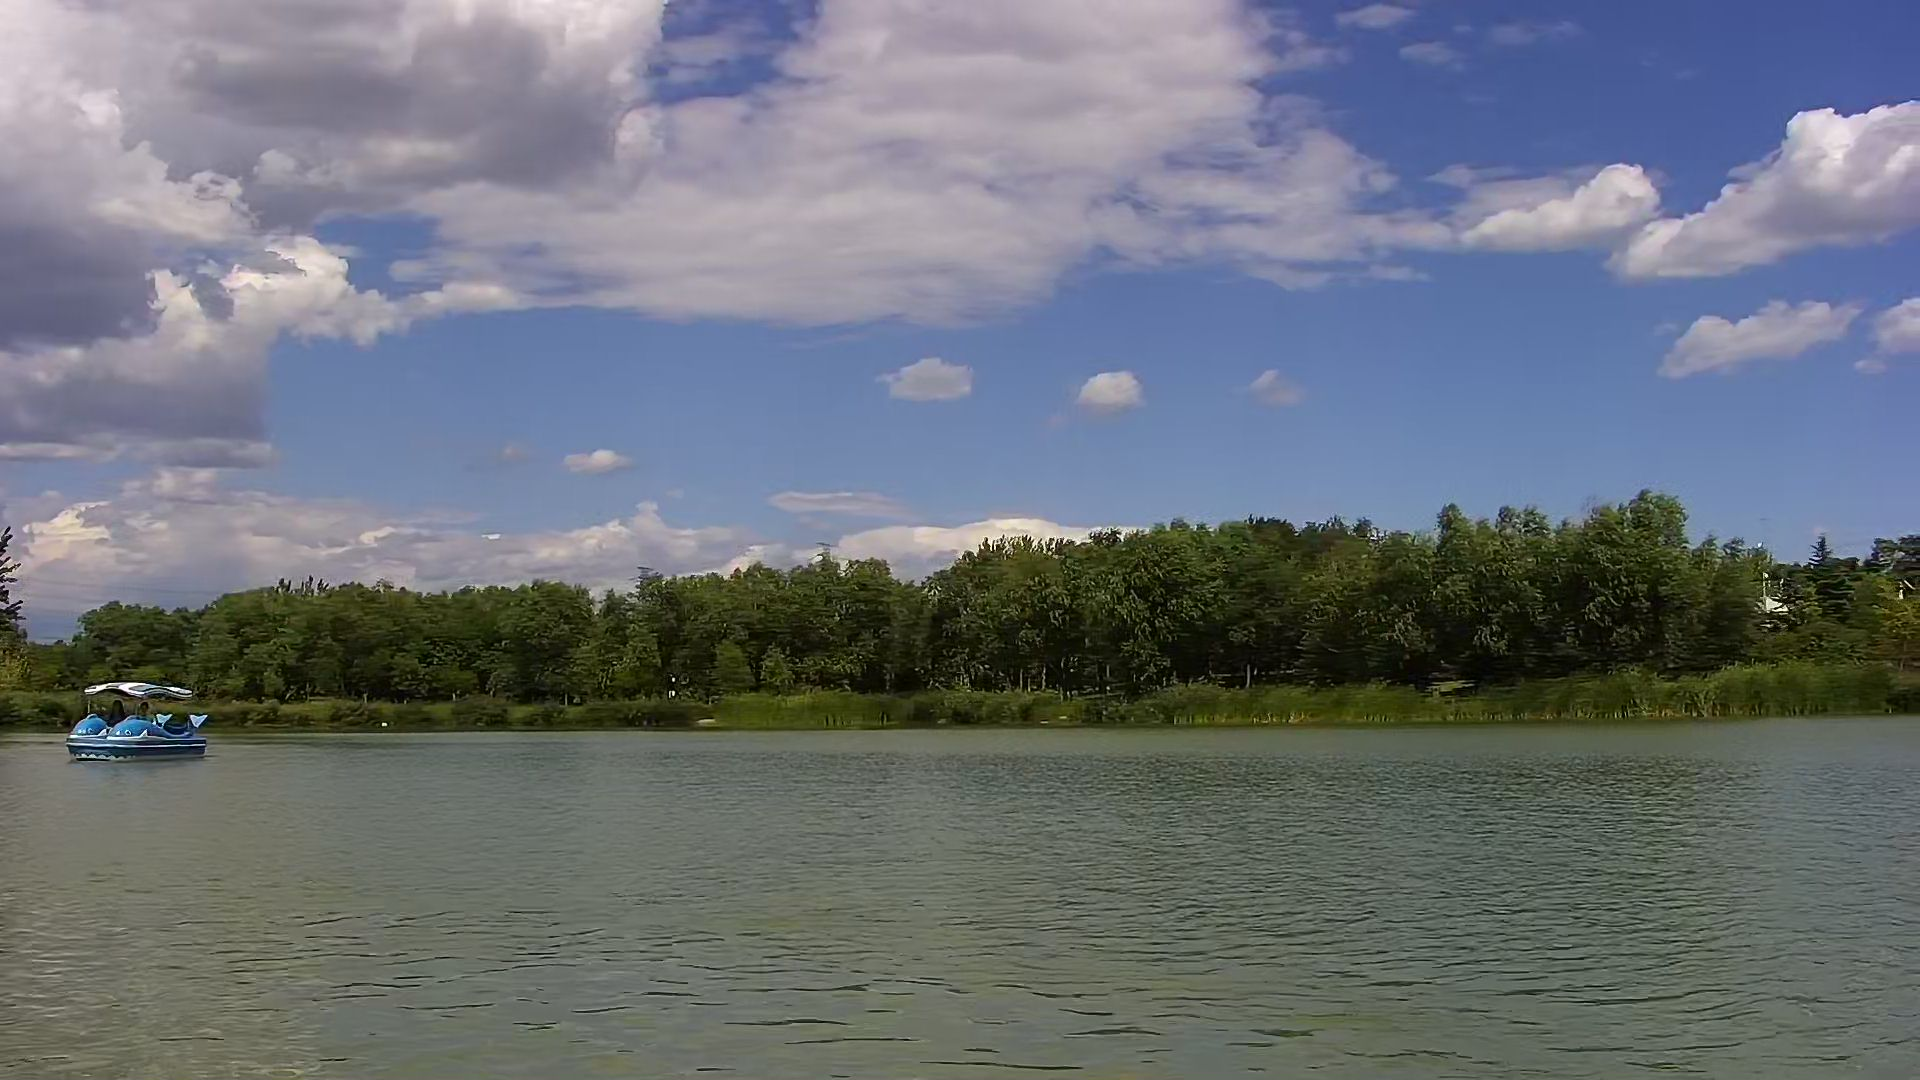boat: (67, 682, 206, 767)
